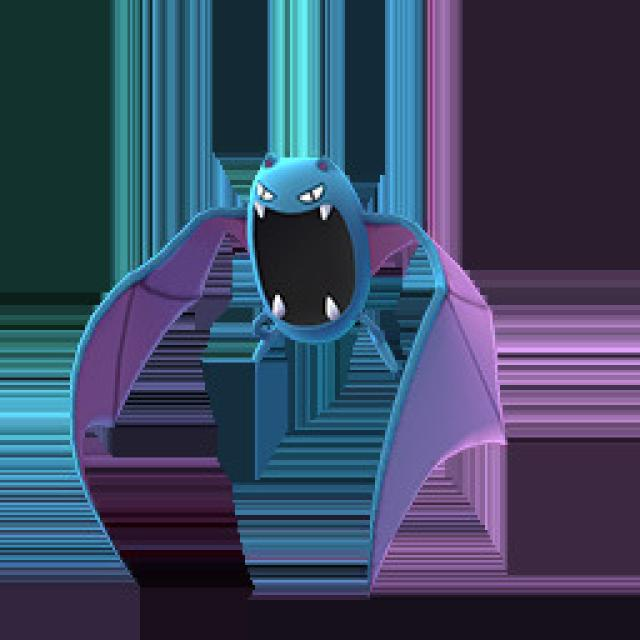Golbat: (70, 142, 518, 440)
